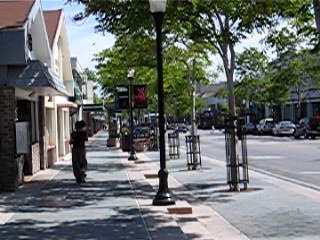person: (70, 120, 90, 185), (69, 120, 89, 185), (71, 120, 91, 185), (70, 119, 90, 184), (70, 121, 90, 186)
target_negative: (88, 198, 270, 234), (107, 216, 219, 240), (87, 195, 204, 209), (197, 130, 206, 200), (160, 189, 191, 209), (142, 141, 247, 145)
